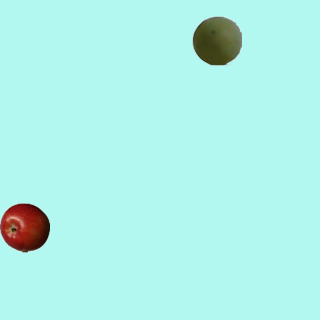Apple Braeburn: (0, 202, 49, 252)
Grape White 4: (191, 15, 241, 65)
